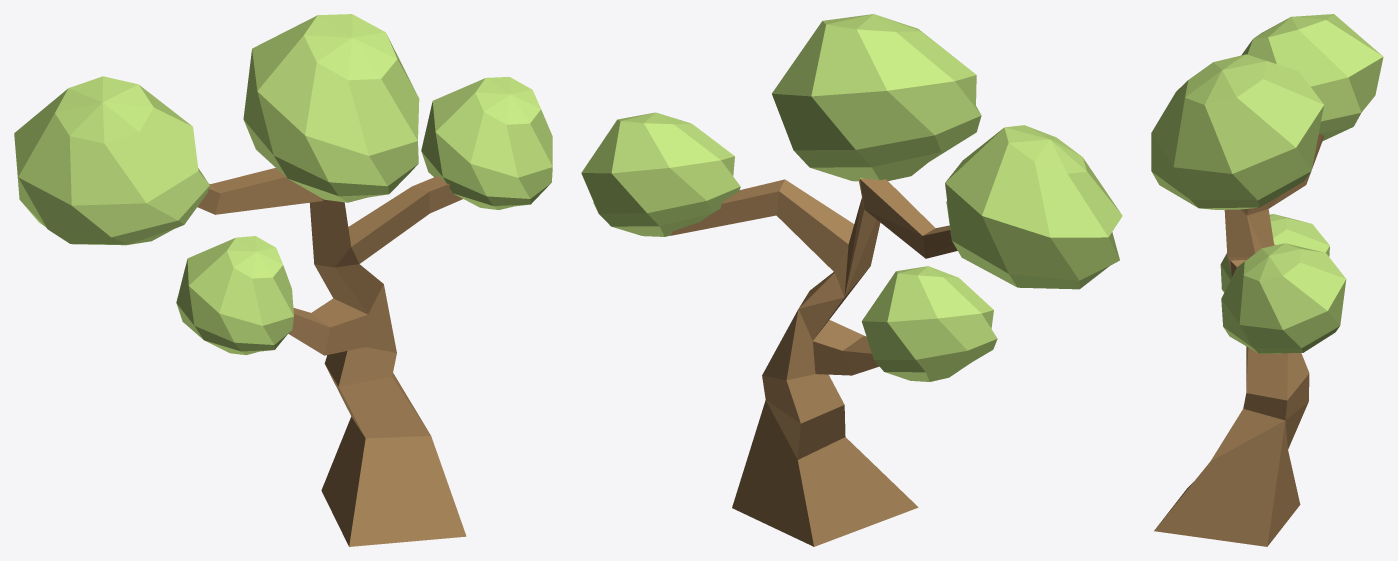
Rendered from TreeA.fbx.
The picture shows the model from 3 angles, left to right: view 1: azimuth 30°, elevation 25°; view 2: azimuth 150°, elevation 25°; view 3: azimuth 270°, elevation 25°; orthographic projection. The views are drawn at different scales.
Visible parts, largest first — view 1: Tree; view 2: Tree; view 3: Tree.
Boxes of the visible parts, x1=… form: Tree: x1=14, y1=14, x2=552, y2=546; Tree: x1=581, y1=14, x2=1122, y2=546; Tree: x1=1151, y1=14, x2=1383, y2=546.
Bounding box in the file's own units: 849 × 778 × 377.
